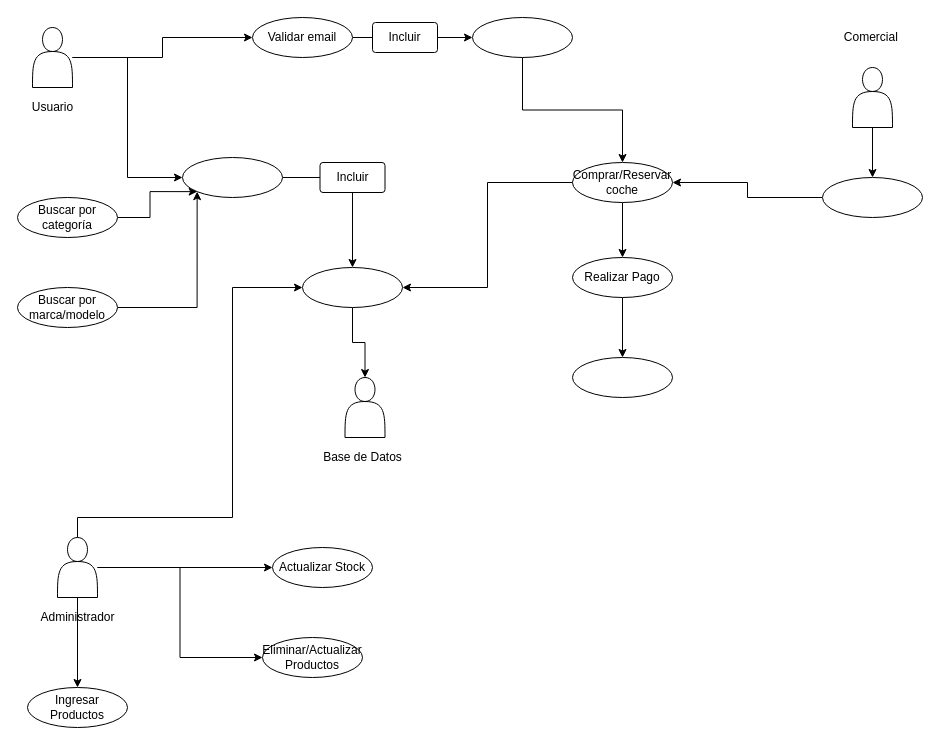
Image size: 940x745. Some labels were removed from this diagram. The centre of each missing label's shape, as x and y in pixels:
Asesorar Compra: point 872,197
Buscar coche: point 232,177
Comprobar Stock: point 352,287
Registrar Usuario: point 522,37
Transferencia Bancaria: point 622,377
